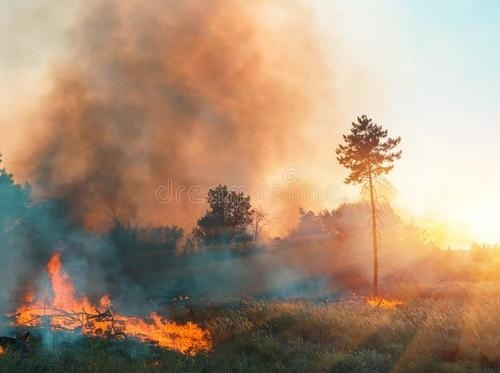fire: (14, 251, 211, 353)
